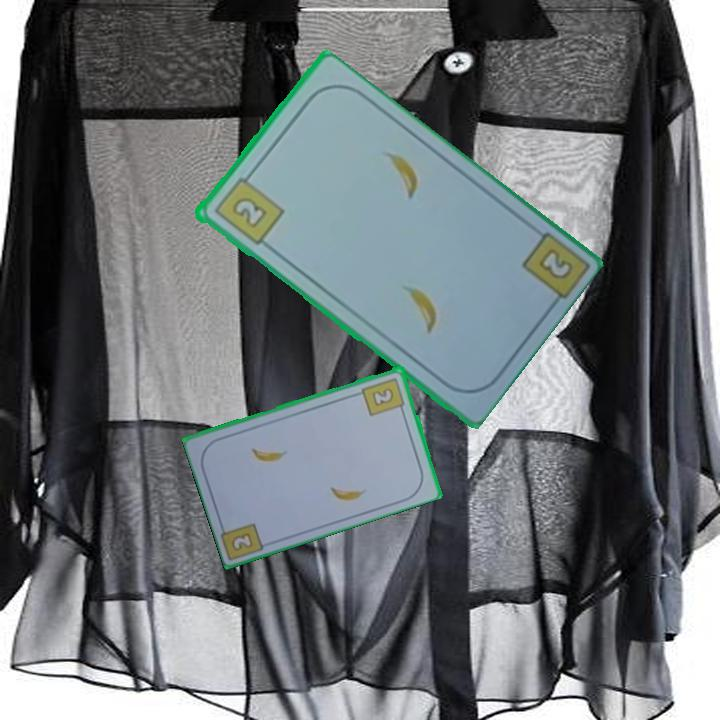2b: (210, 168, 286, 248), (359, 374, 408, 418), (538, 248, 573, 280), (230, 531, 254, 552)
